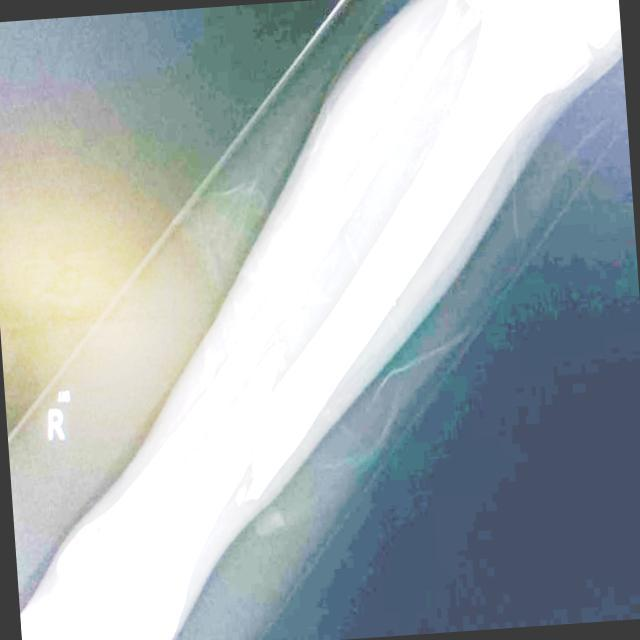Impact Fracture: (233, 353, 300, 501)
